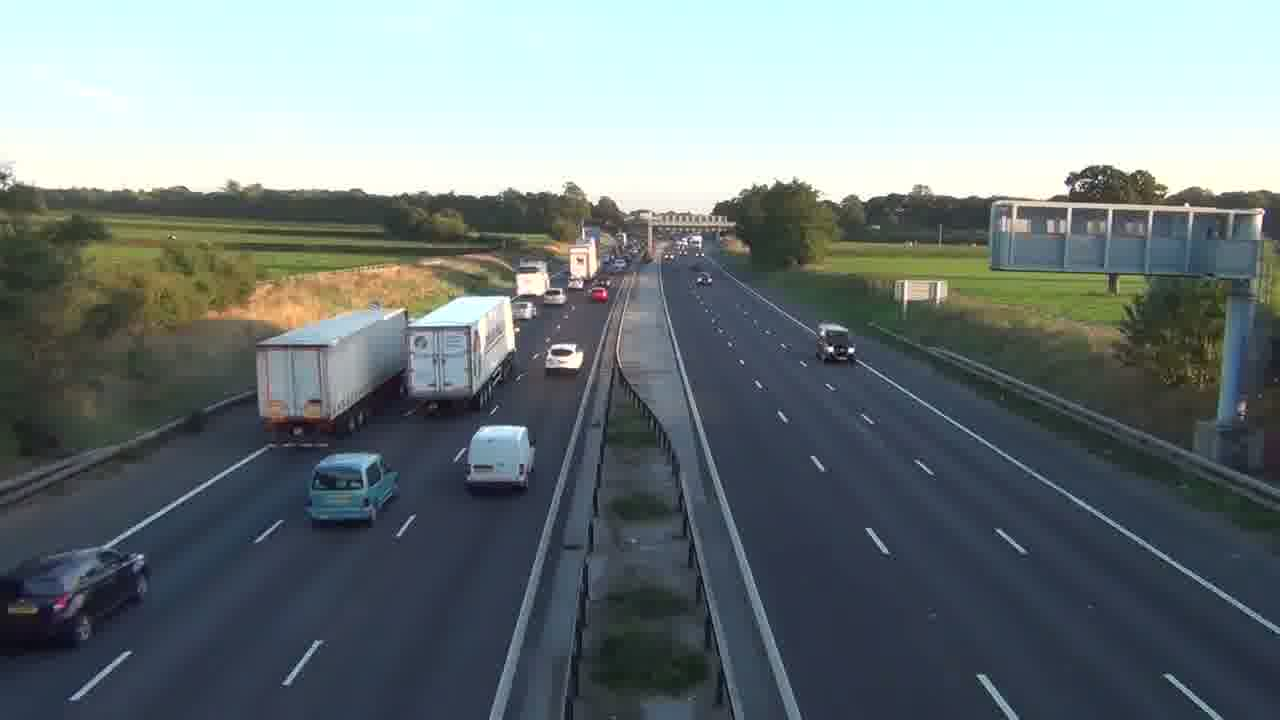car: (0, 545, 151, 647), (305, 451, 400, 527)
truck: (256, 307, 409, 442), (0, 545, 151, 647), (403, 294, 516, 410), (465, 425, 535, 494), (815, 321, 854, 363)
